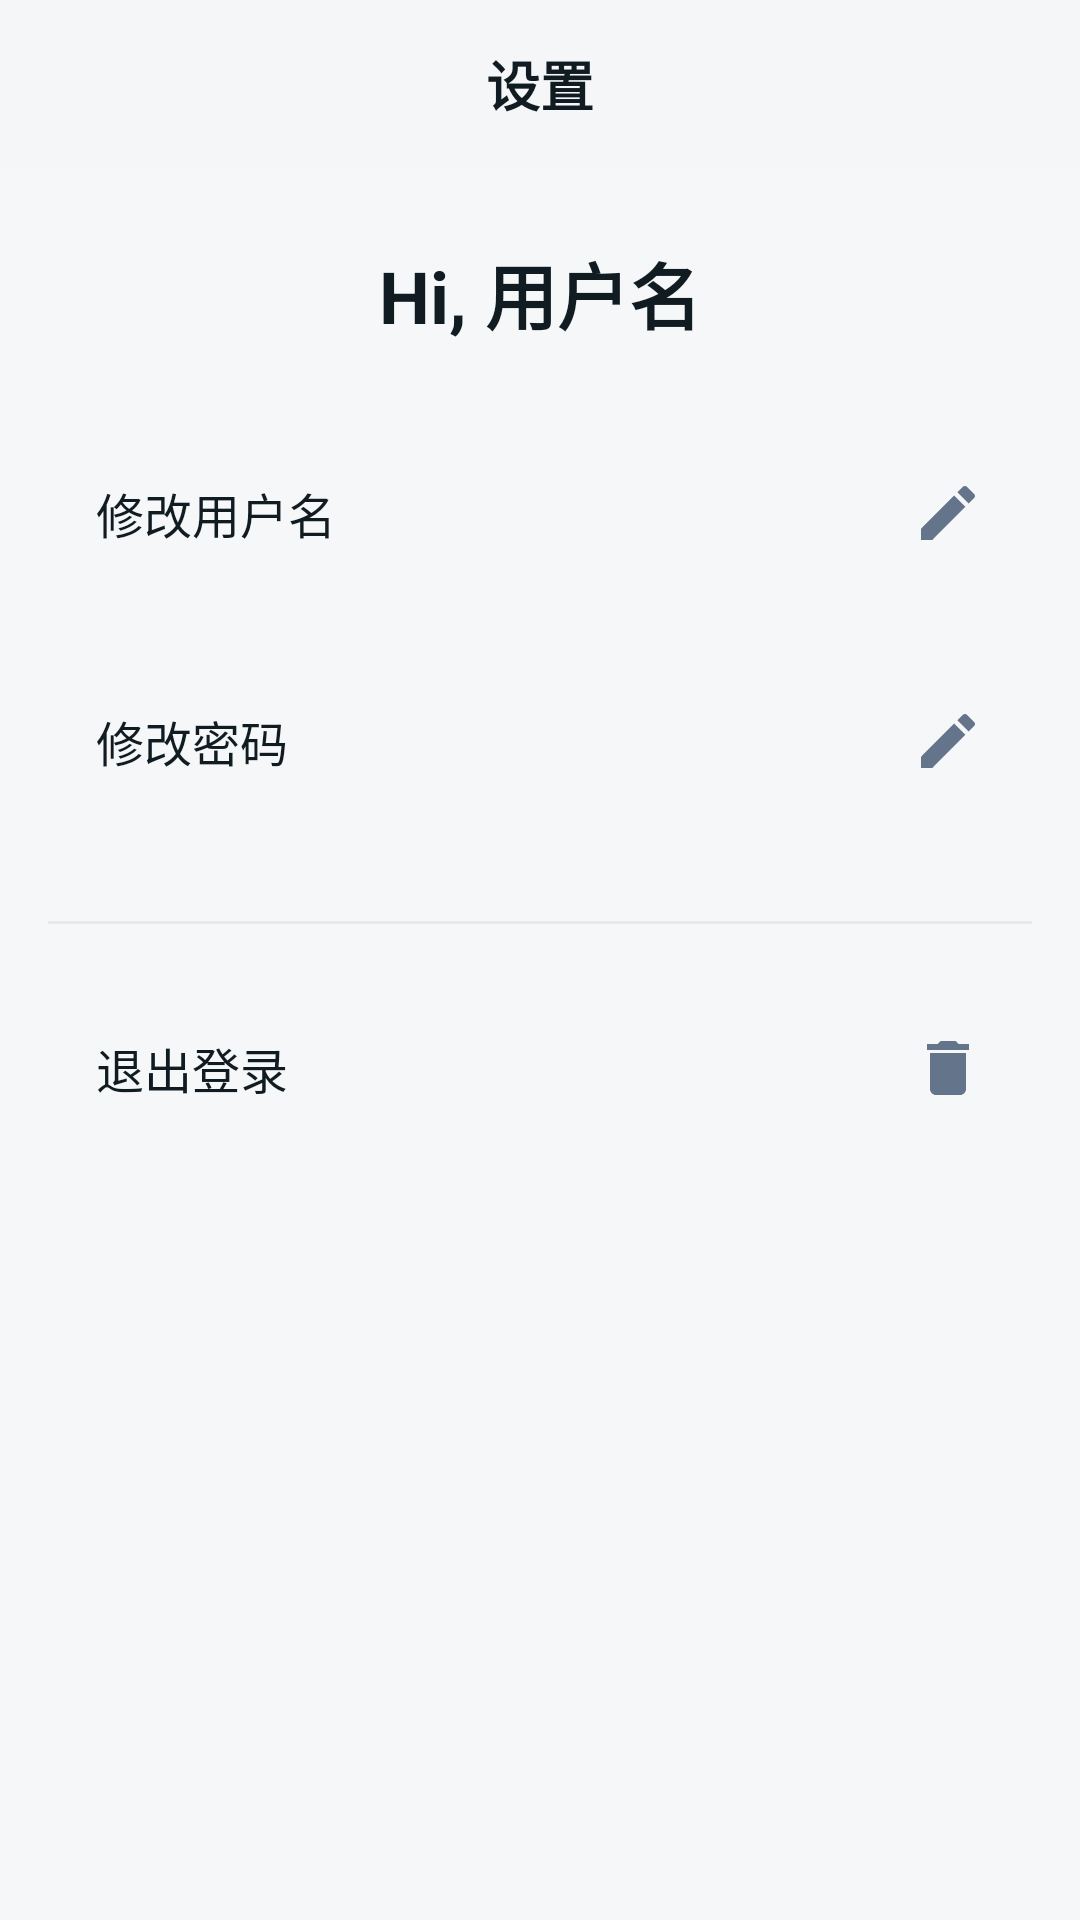

Icon click points for this 1080px x 1920px phone screenshot, format (x,y):
delete: (948,1068)
edit: (948,513), (948,741)
